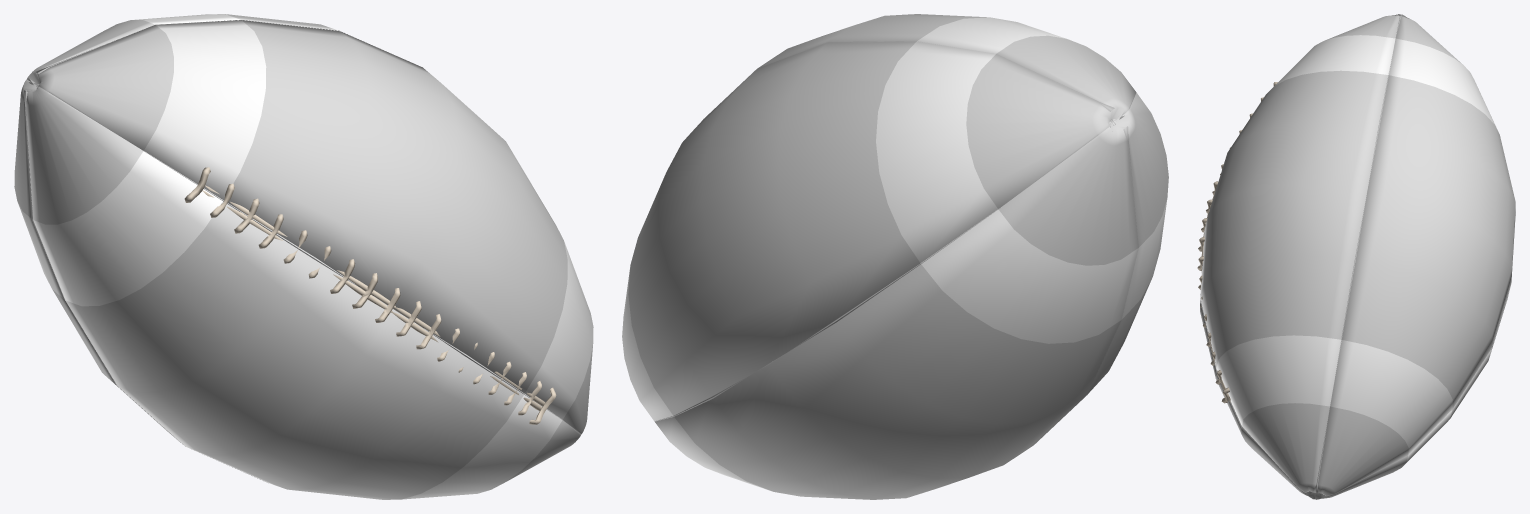
File: American_Football_ball.glb
The picture shows the model from 3 angles, left to right: view 1: azimuth 30°, elevation 25°; view 2: azimuth 150°, elevation 25°; view 3: azimuth 270°, elevation 25°; orthographic projection. The views are drawn at different scales.
Visible parts, largest first — view 1: American Football ball 1, American Football ball 2; view 2: American Football ball 1; view 3: American Football ball 1, American Football ball 2.
Boxes of the visible parts, x1=… form: American Football ball 1: x1=14, y1=14, x2=593, y2=499; American Football ball 2: x1=184, y1=167, x2=556, y2=424; American Football ball 1: x1=622, y1=14, x2=1168, y2=499; American Football ball 1: x1=1200, y1=14, x2=1515, y2=499; American Football ball 2: x1=1197, y1=82, x2=1277, y2=403.
Size of the model in its own units: 0.251 by 0.233 by 0.1901.
